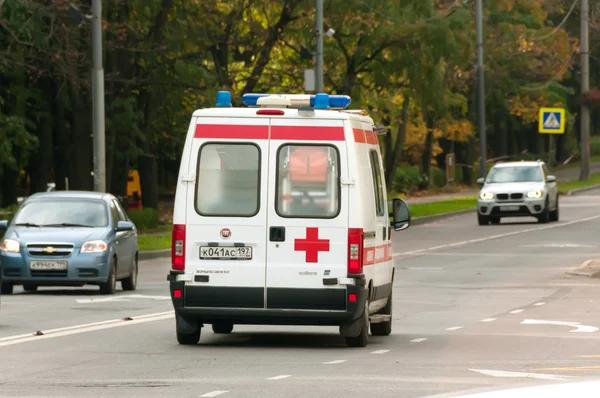ambulance_off: (168, 90, 412, 347)
